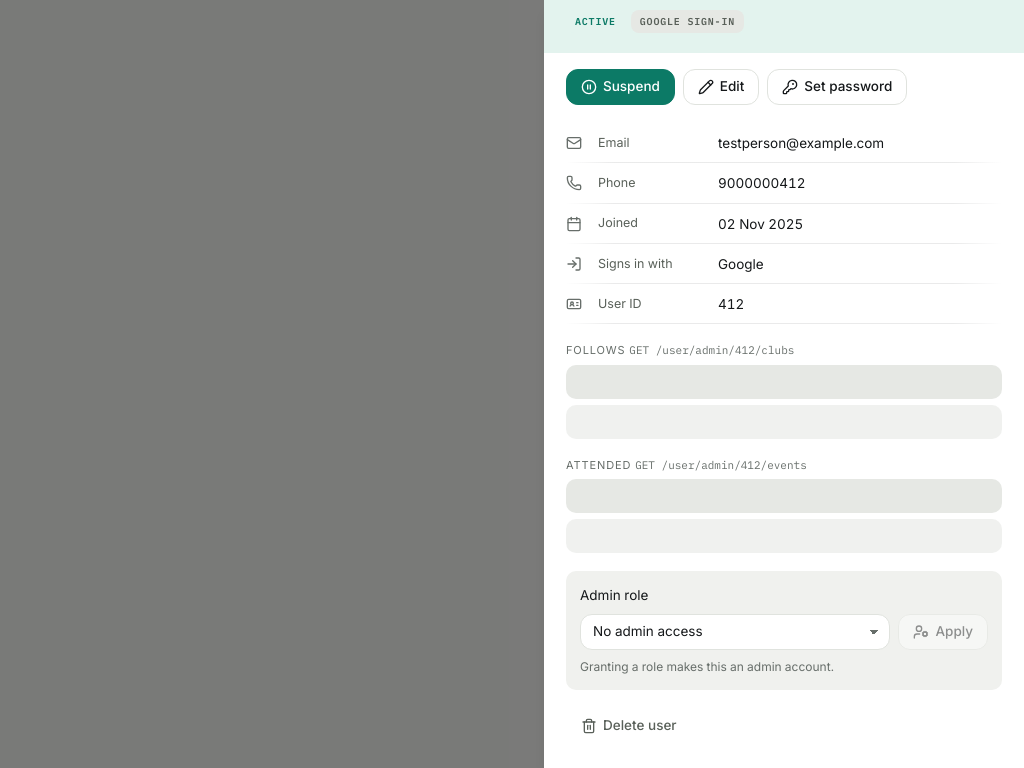
Test case: delete a user › from the users drawer › confirms with what it removes and that it cannot be undone; cancelling sends nothing
(page scrolled)
Click the button "Delete user" at point(629, 726), box left=566, top=708, right=692, bottom=744
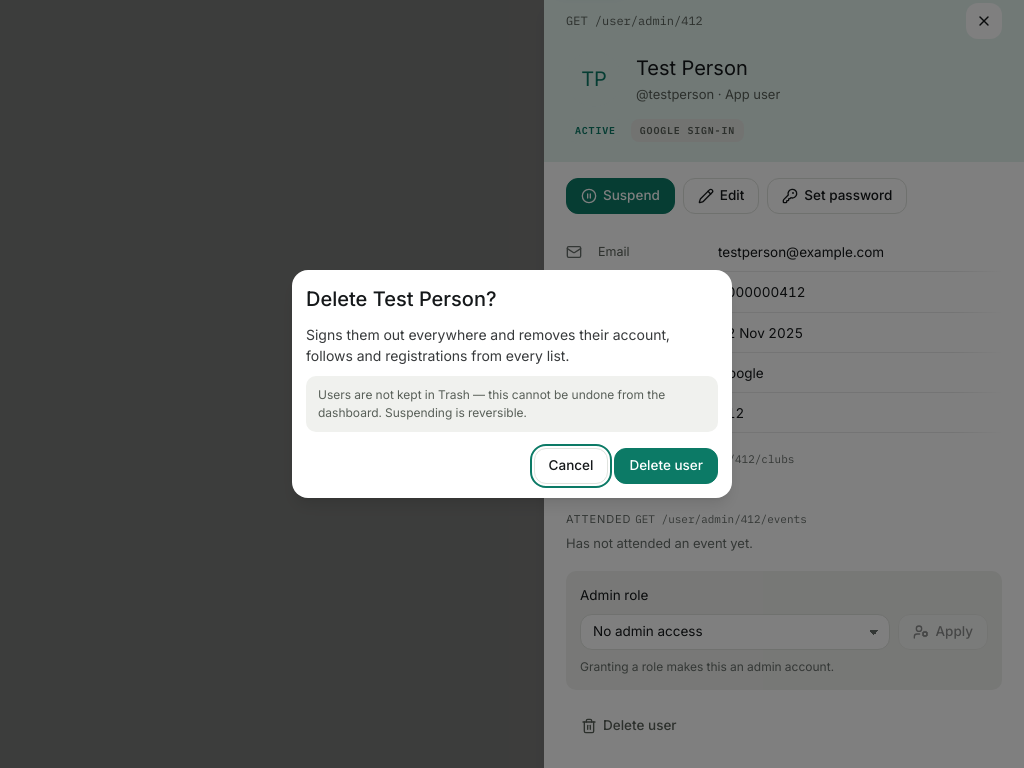
Check: the dialog that starts with "Delete Test Person?" is shown, box left=292, top=270, right=732, bottom=498
Check: the heading "Delete Test Person?" is shown, box left=306, top=287, right=496, bottom=311
Check: the text "cannot be undone" is shown, box left=318, top=387, right=665, bottom=420
Click the button "Cancel" at point(571, 466), box left=534, top=448, right=608, bottom=484
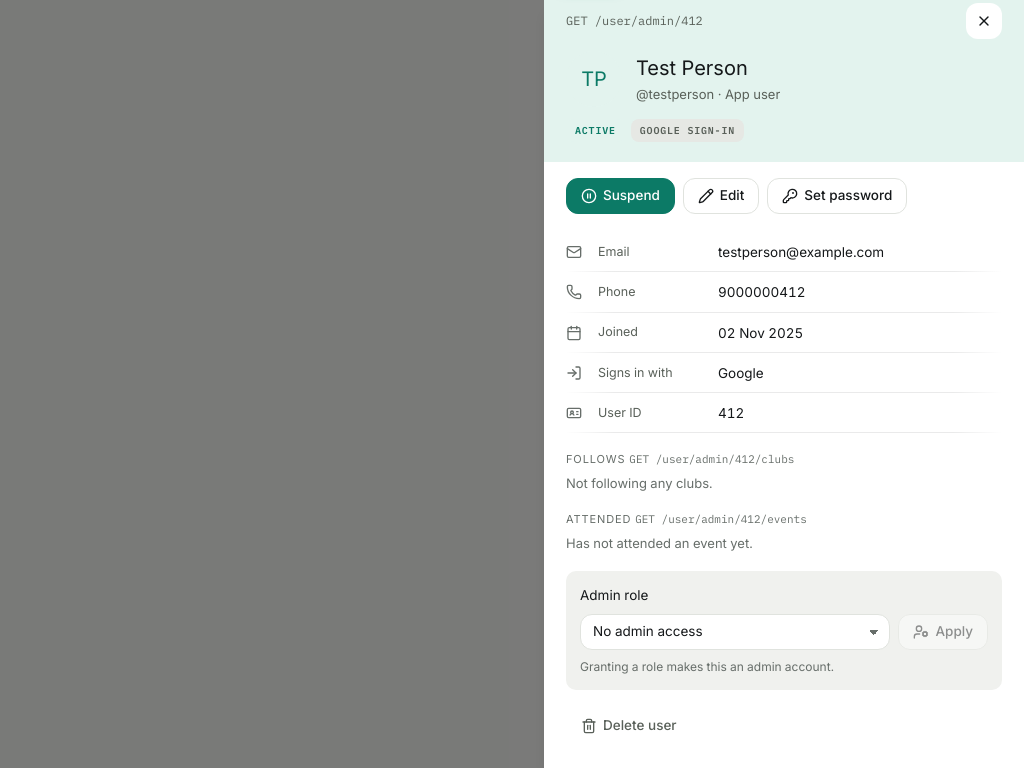
Check: the heading "Delete Test Person?" is gone
